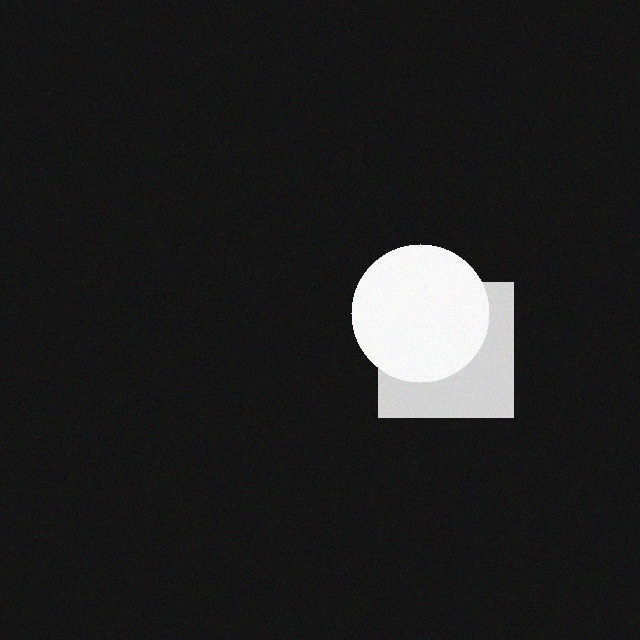circle: (362, 232, 500, 370)
square: (389, 270, 524, 405)
